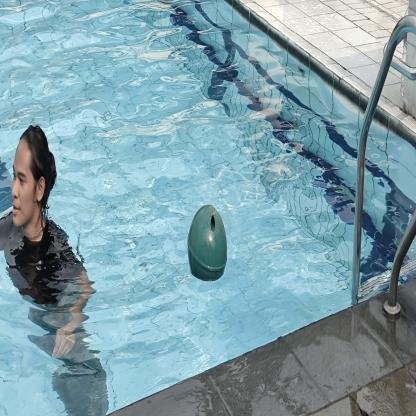green_buoy: (186, 202, 229, 286)
